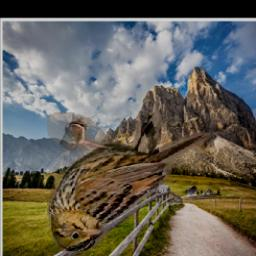Sparrow: (46, 112, 210, 253)
